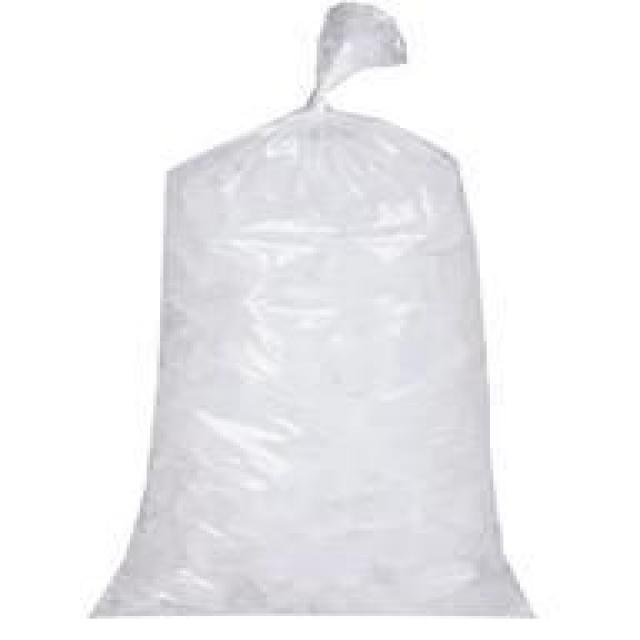plastic_bag: (68, 1, 558, 640)
